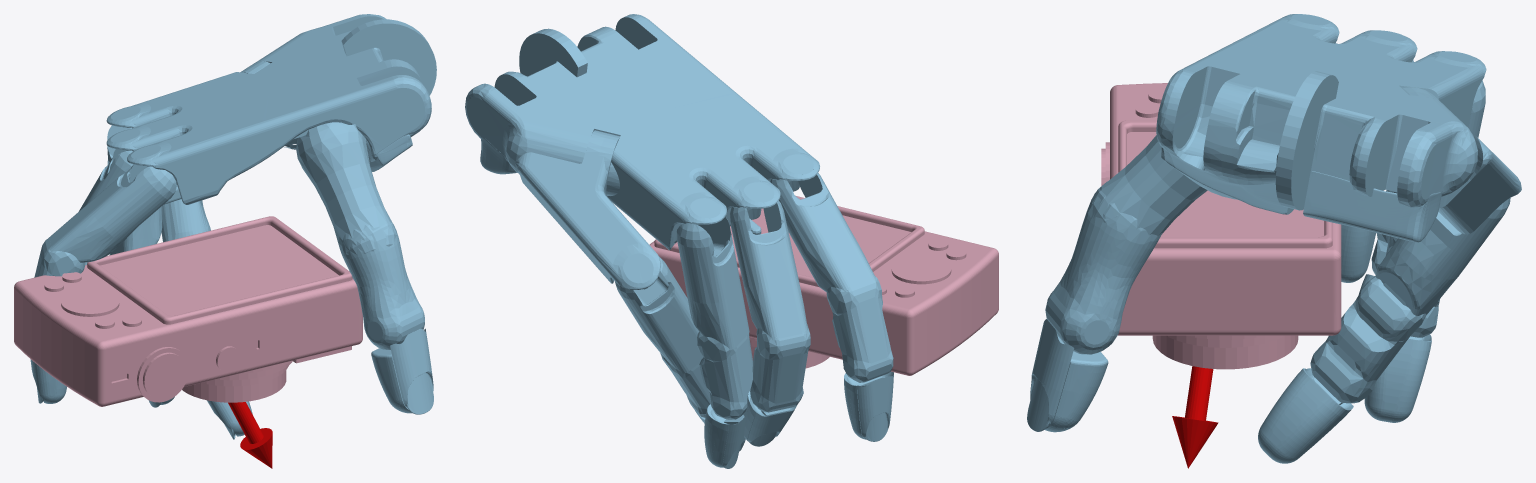
3 renders of one model, left to right at view 1: azimuth 30°, elevation 25°; view 2: azimuth 150°, elevation 25°; view 3: azimuth 270°, elevation 25°, orthographic. The views are drawn at different scales.
Visible parts, largest first — view 1: world, camera.stl; view 2: world, camera.stl; view 3: world, camera.stl.
Boxes of the visible parts, x1,y1,x2,y2 form: world: (30,14,436,468); camera.stl: (14,216,362,406); world: (465,14,893,468); camera.stl: (649,195,998,375); world: (1027,14,1521,468); camera.stl: (1101,83,1341,369).
Bounding box in the file's own units: 0.1766 × 0.1519 × 0.1383.
